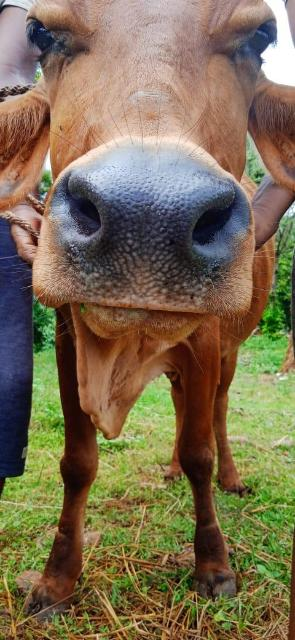Muzzle: (72, 168, 210, 310)
